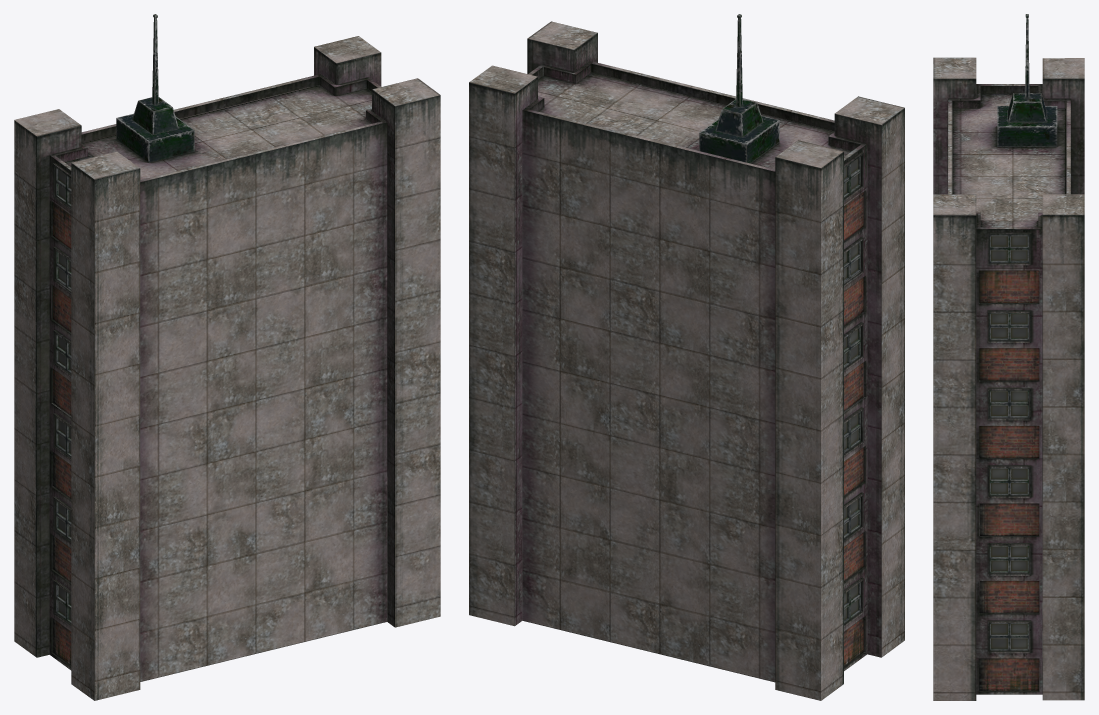
File: brutalist_building.glb
The picture shows the model from 3 angles, left to right: view 1: azimuth 30°, elevation 25°; view 2: azimuth 150°, elevation 25°; view 3: azimuth 270°, elevation 25°; orthographic projection. The views are drawn at different scales.
Visible parts, largest first — view 1: Cube_0; view 2: Cube_0; view 3: Cube_0.
Part boxes in pixels (x1=…): Cube_0: x1=14, y1=14, x2=440, y2=700; Cube_0: x1=469, y1=14, x2=904, y2=700; Cube_0: x1=933, y1=14, x2=1084, y2=700.
Size of the model in its own units: 6.07 by 10.41 by 2.46.
1 material, 1 textured.
